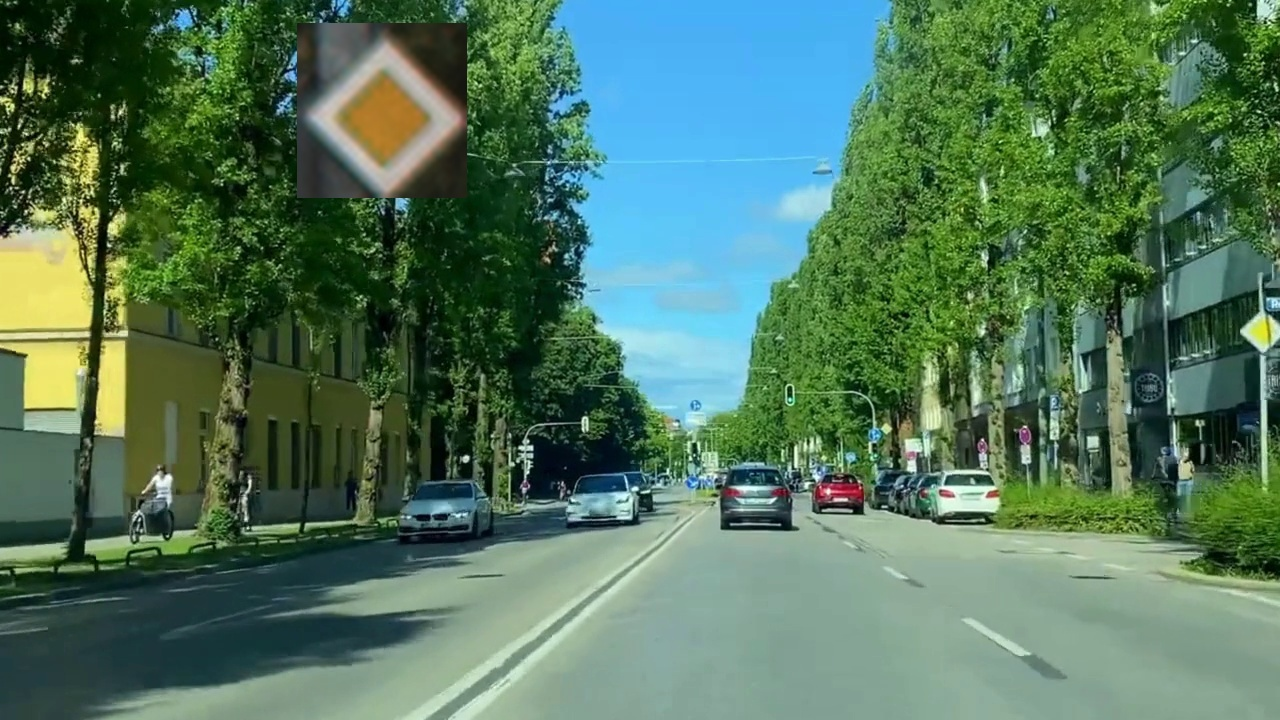Priority road: (297, 23, 467, 198)
